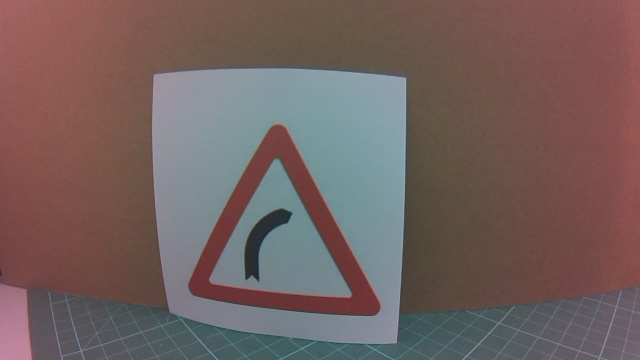right: (185, 140, 363, 316)
